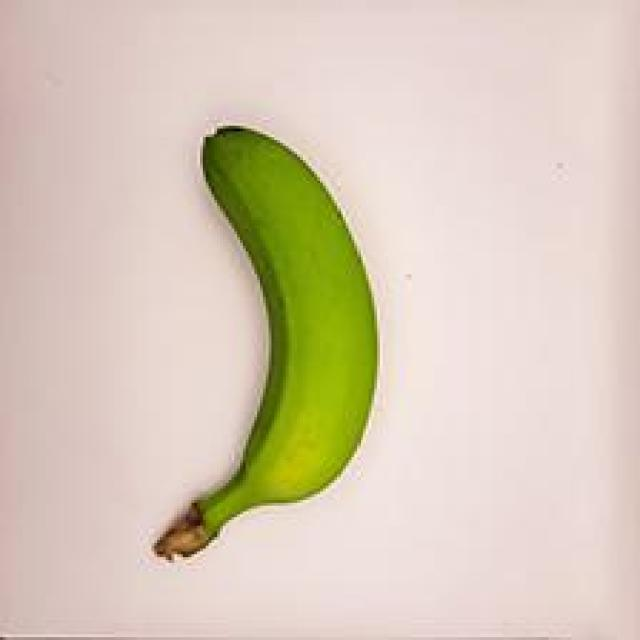Unripe: (132, 88, 426, 588)
